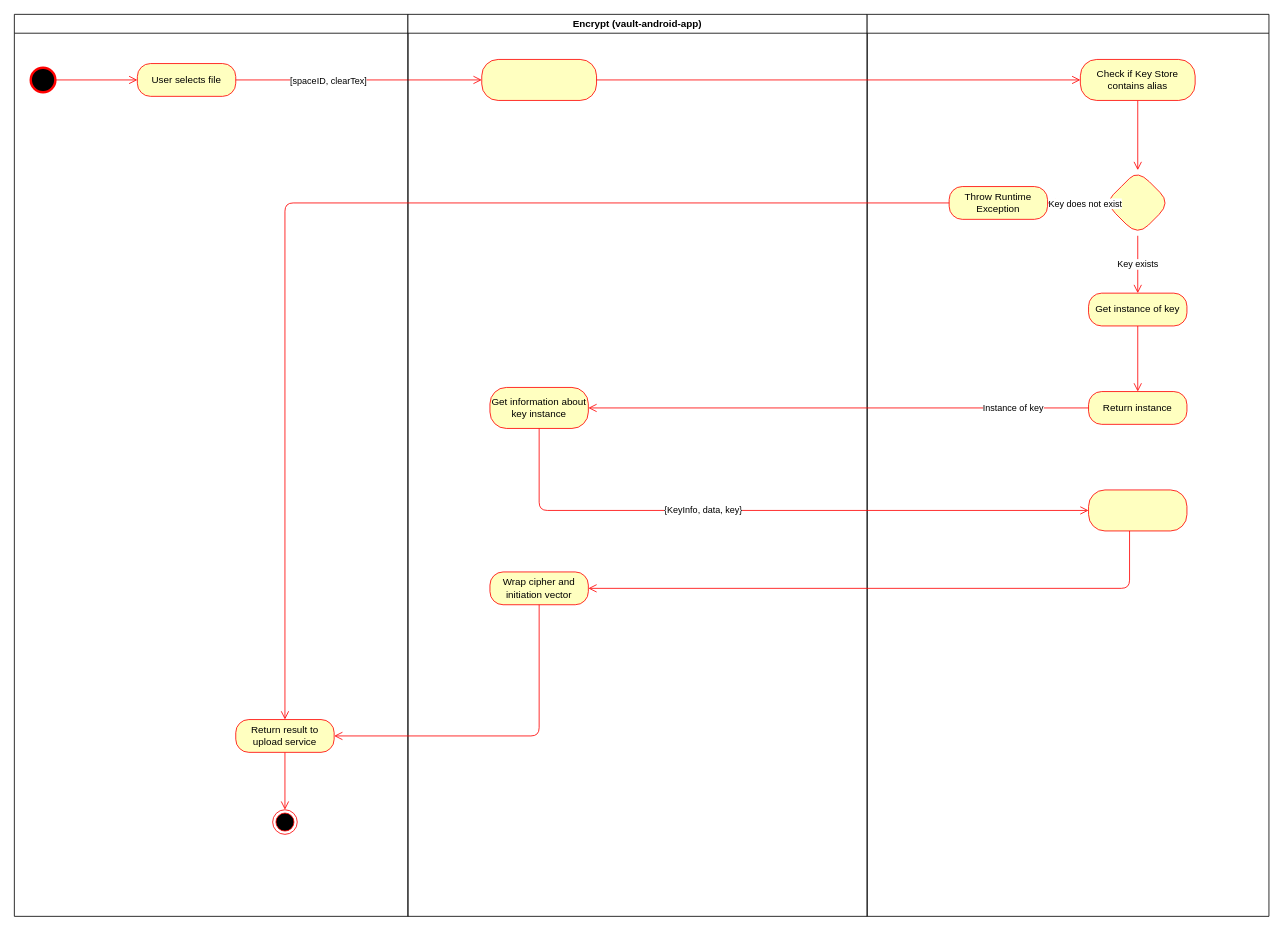
Image size: 1283x931. Some labels were removed from this diagram. Here are the shapes that lost their labels. From the top down, the box of each, then its label:
(481, 59, 597, 100): Check if a key exists for the the spaceID
(14, 14, 408, 916): Upload (vault-android-app)
(866, 14, 1269, 916): Android Key Store (TPM)
(1088, 489, 1187, 531): Encrypt data
